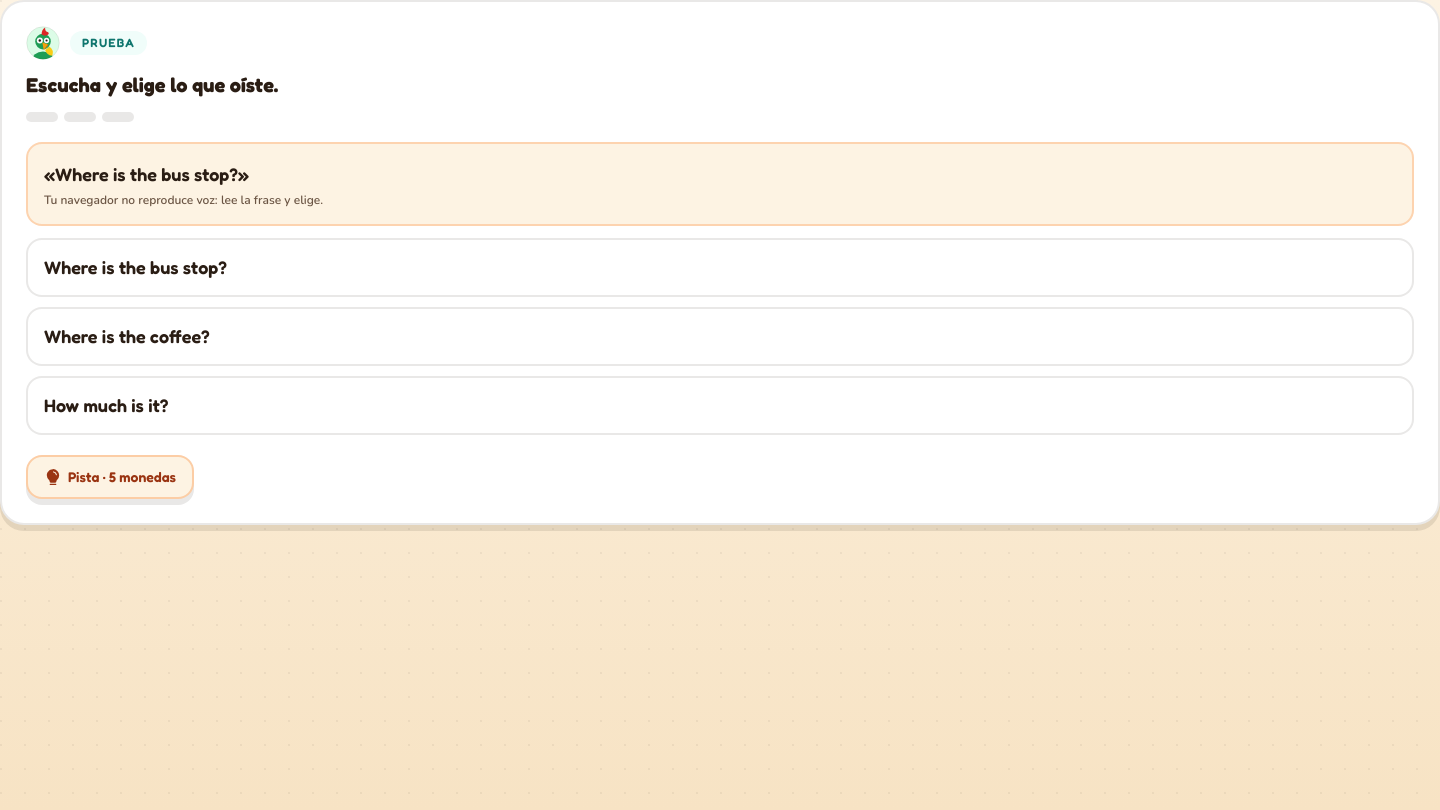
it: ListenChallenge › hint removes a wrong option
Click the button "Pista · 5 monedas" at (110,476), box [26,454,194,498]
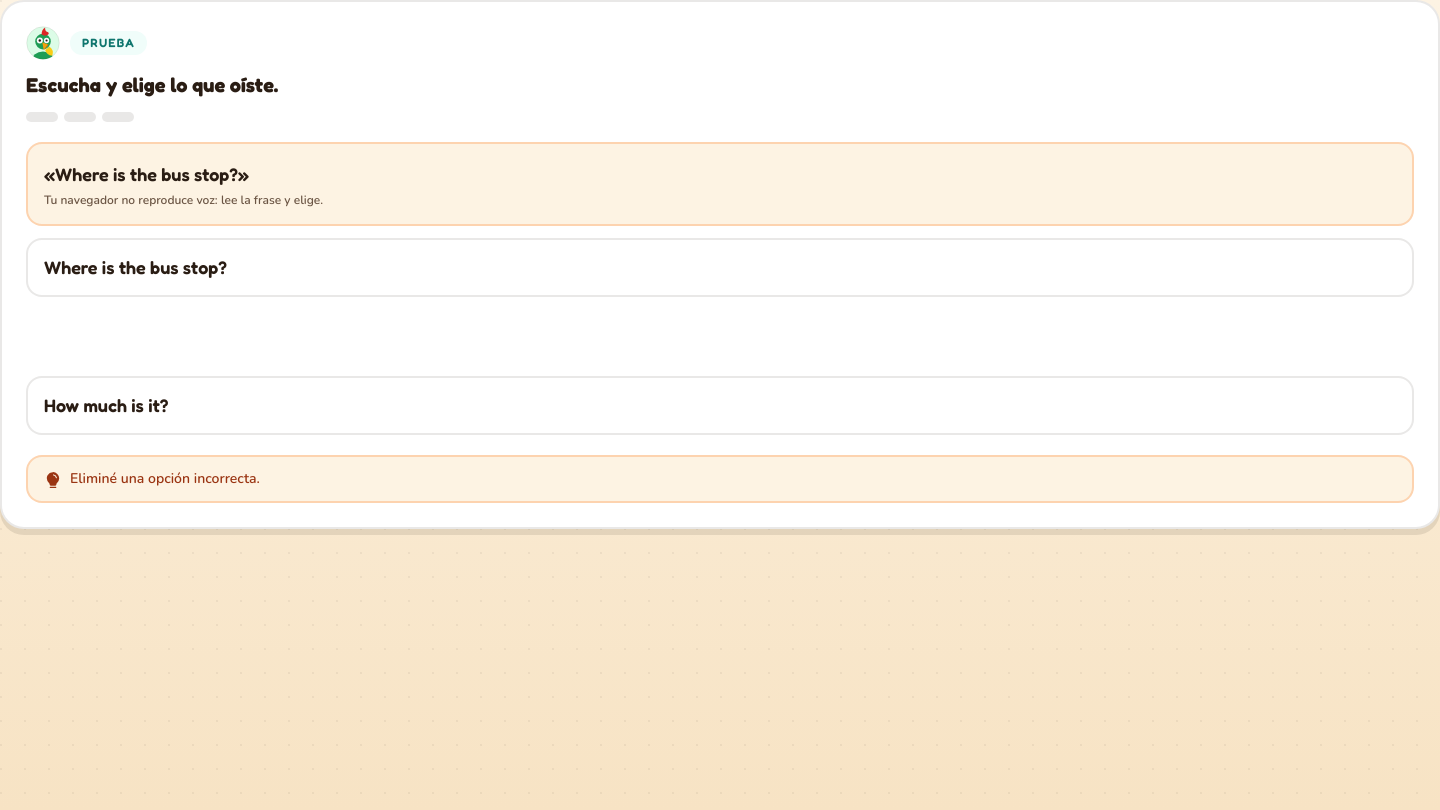
Now the text "Eliminé una opción incorrecta." is shown, box [26,454,1414,502]
